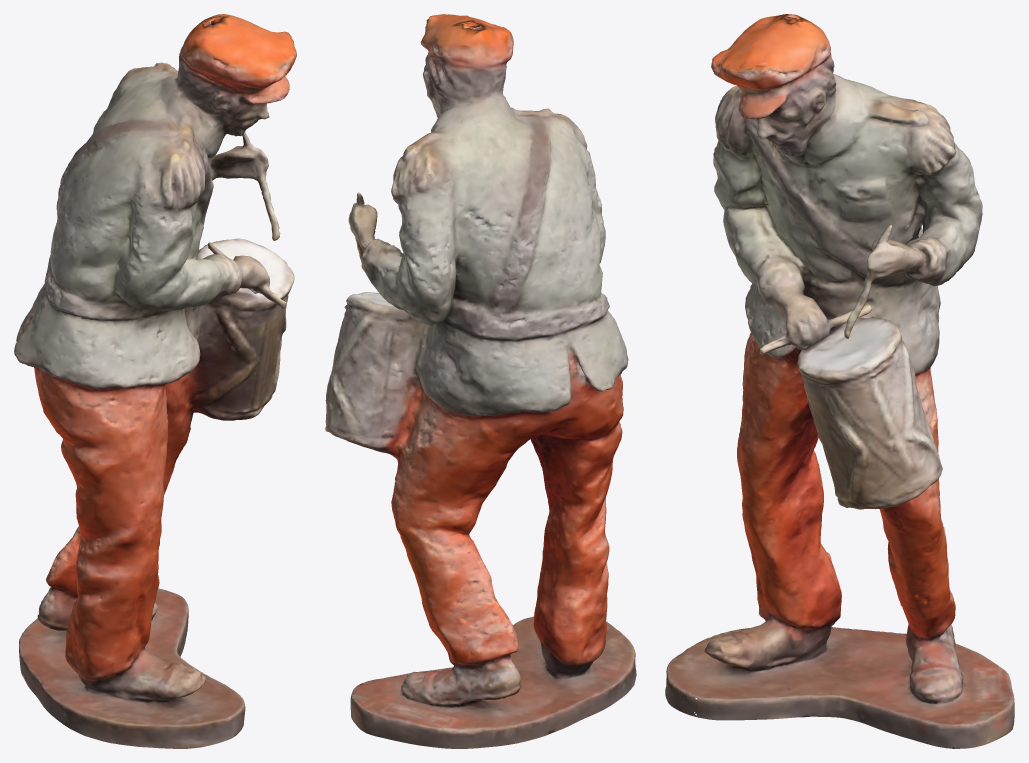
The model's file is khanna-adhikari-dada-drum-walae.glb.
3 renders of one model, left to right at view 1: azimuth 30°, elevation 25°; view 2: azimuth 150°, elevation 25°; view 3: azimuth 270°, elevation 25°, orthographic. The views are drawn at different scales.
Visible parts, largest first — view 1: muscianbeatingdrums_001; view 2: muscianbeatingdrums_001; view 3: muscianbeatingdrums_001.
Part boxes in pixels (bbox=[...]): muscianbeatingdrums_001: bbox=[14, 14, 296, 748]; muscianbeatingdrums_001: bbox=[325, 14, 636, 748]; muscianbeatingdrums_001: bbox=[665, 14, 1014, 748].
Size of the model in its own units: 14.97 by 35.09 by 15.69.
Materials: 1 (1 with a texture image).
